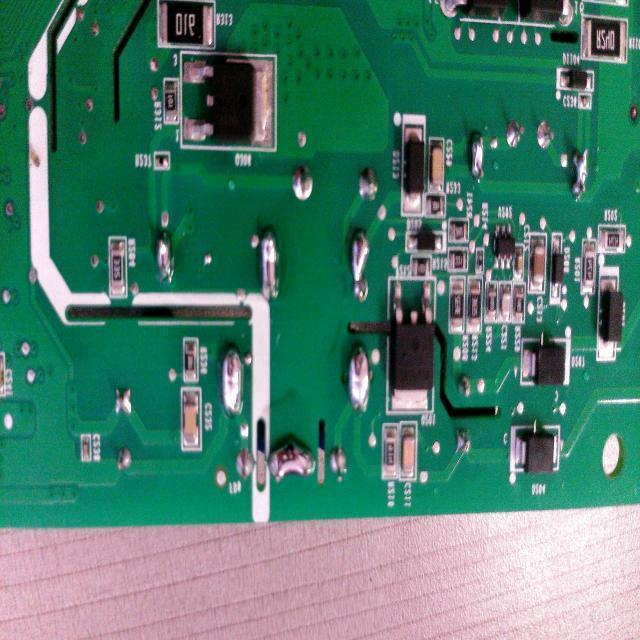Soldering shorted: (267, 430, 320, 486), (258, 217, 284, 306), (345, 341, 373, 419), (220, 340, 247, 420), (566, 143, 594, 204), (351, 230, 373, 304), (152, 226, 178, 286), (469, 128, 487, 186)
